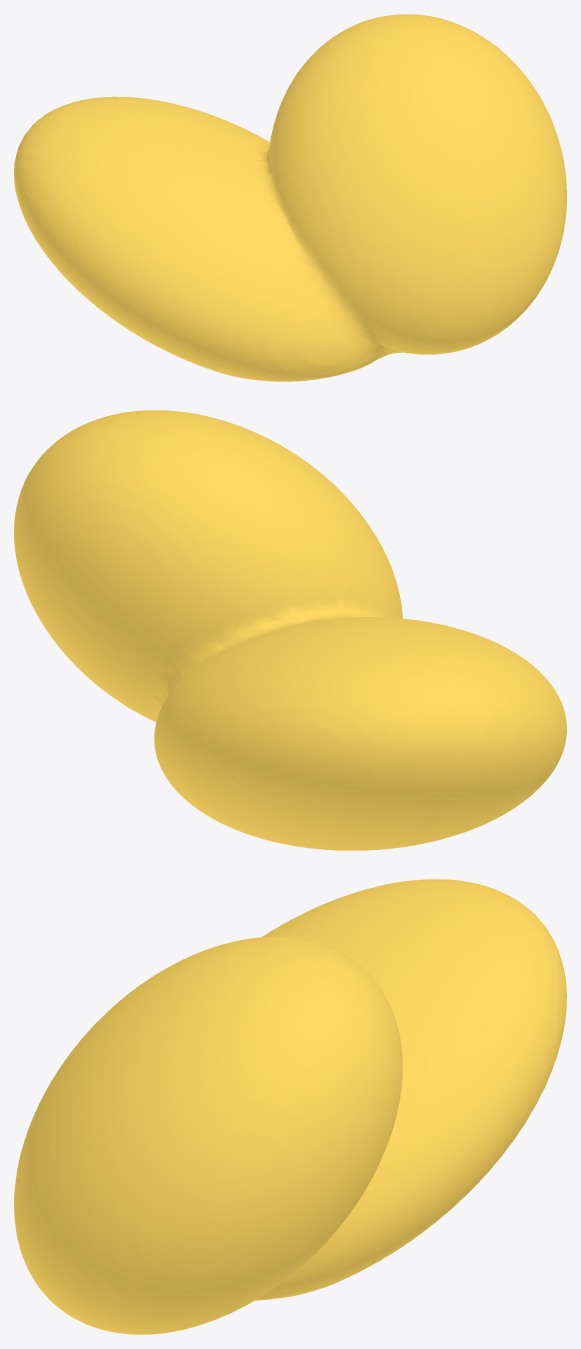
File: atlas-derived-reference.glb
3 views of the same model, one above another, from view 1: azimuth 30°, elevation 25°; view 2: azimuth 150°, elevation 25°; view 3: azimuth 270°, elevation 25° (orthographic). The views are drawn at different scales.
Size of the model in its own units: 1.72 by 0.9996 by 1.34.
1 material, 1 textured.
